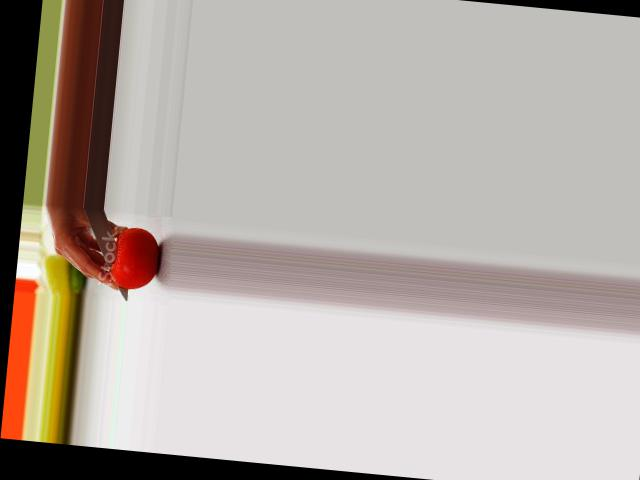tomato: (109, 224, 162, 291)
